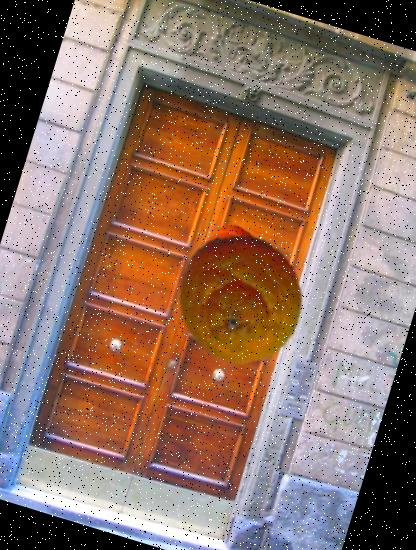Apricot: (198, 215, 272, 289)
Mandarine: (158, 216, 324, 382)
